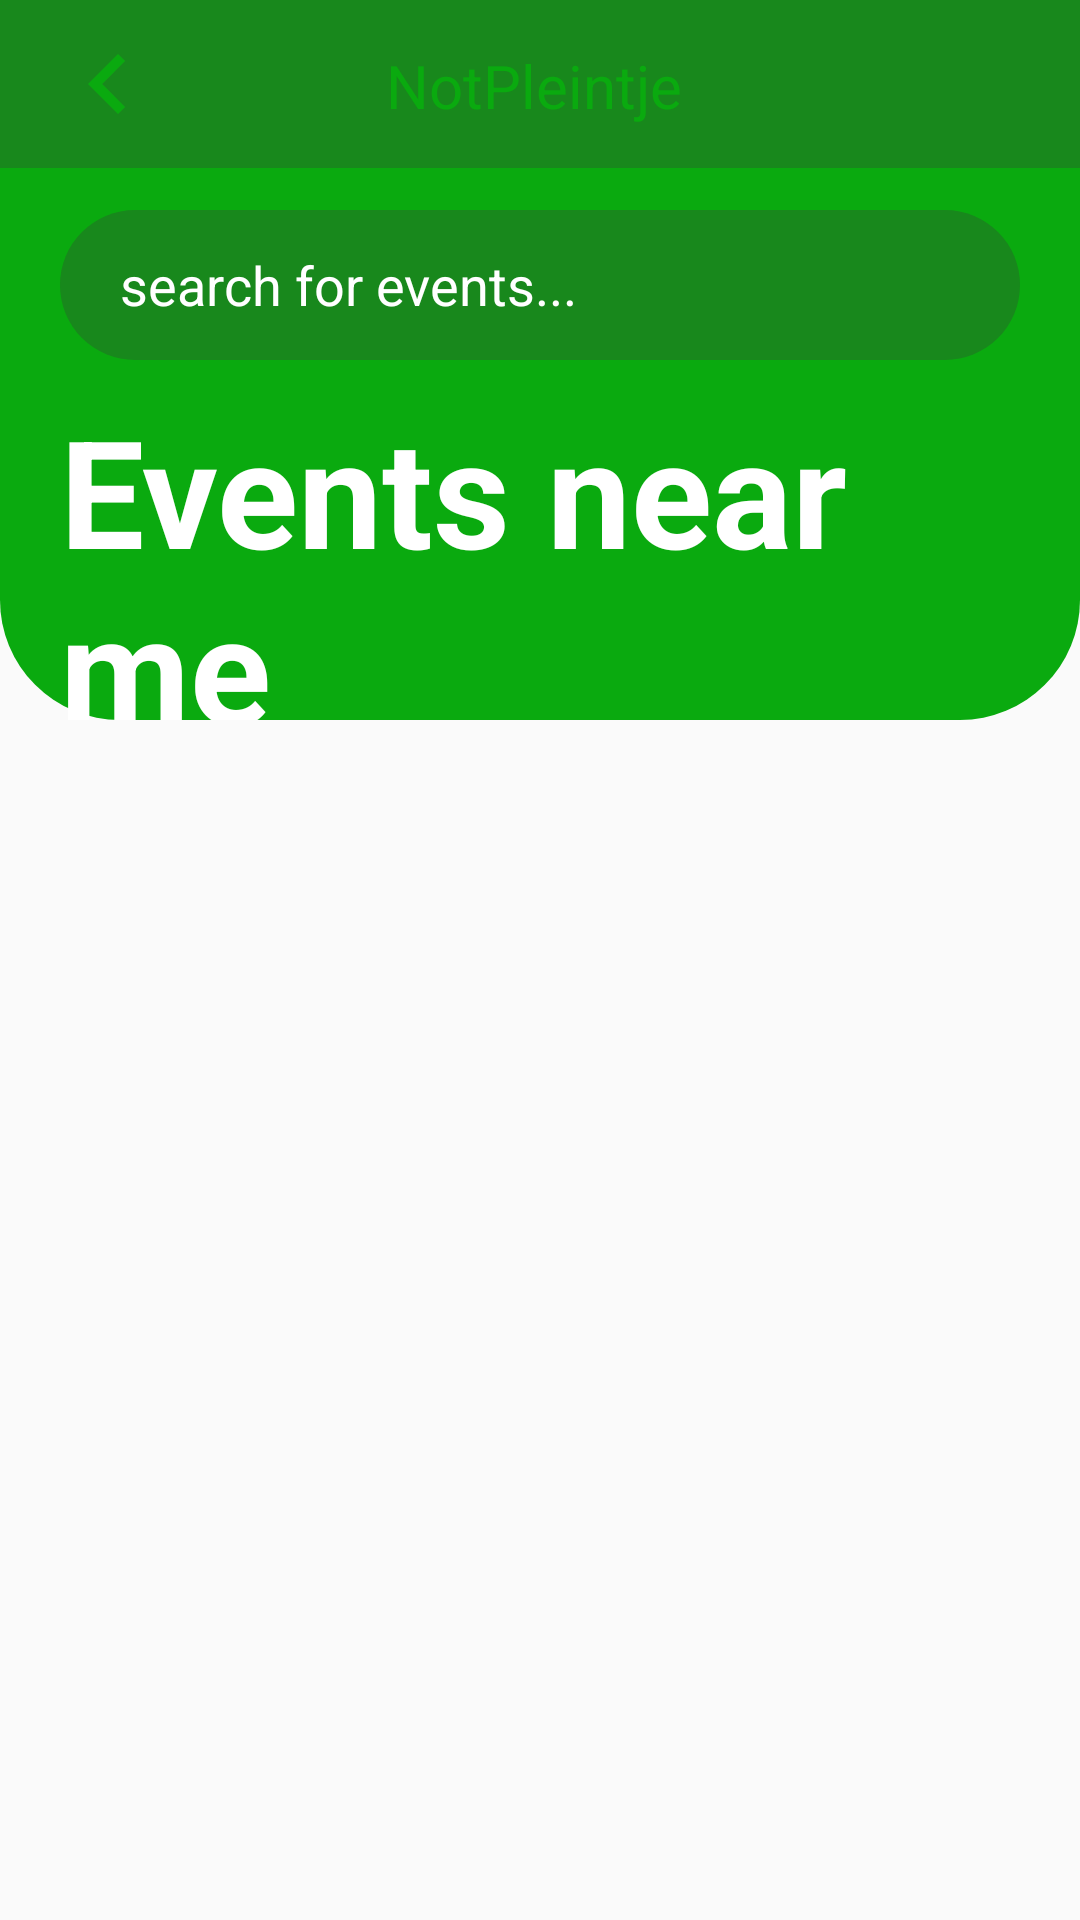

Screen size 1080 x 1920. Icon name, then its box in pixels as rect(x1, y1, x2, y2):
chevron left: rect(89, 55, 124, 113)
